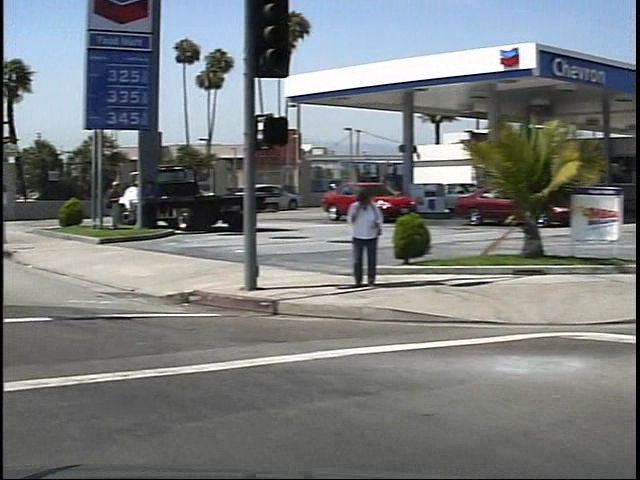person: (334, 186, 375, 291), (97, 178, 118, 234)
